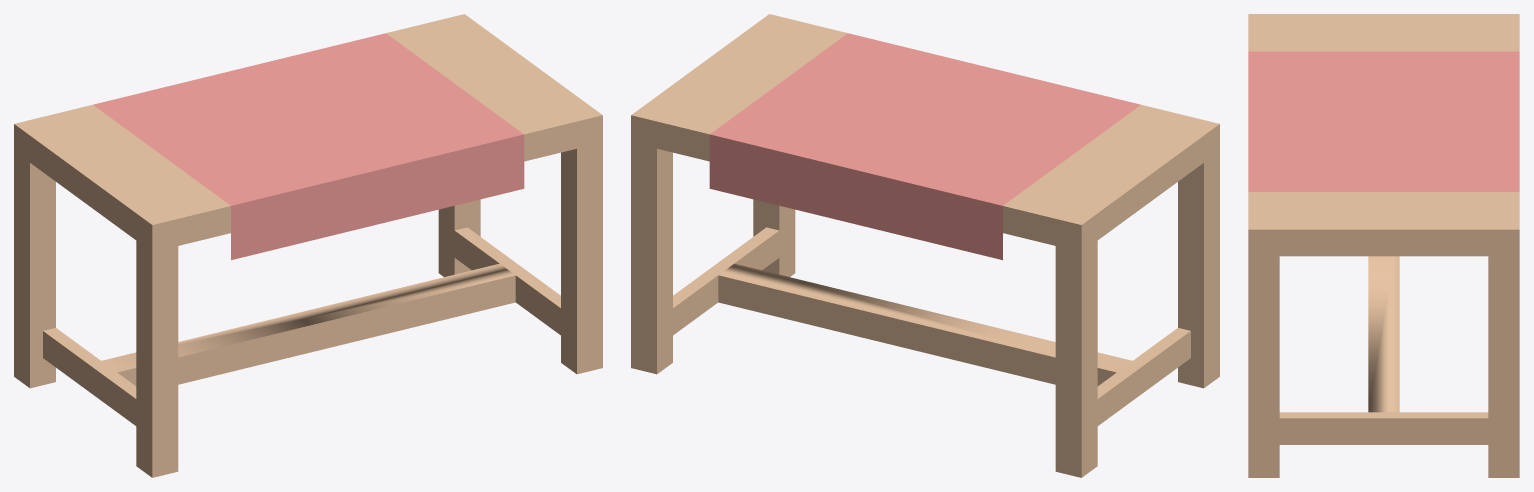
Rendered from Table-cloth.fbx.
The picture shows the model from 3 angles, left to right: view 1: azimuth 30°, elevation 25°; view 2: azimuth 150°, elevation 25°; view 3: azimuth 270°, elevation 25°; orthographic projection.
Visible parts, largest first — view 1: tableCloth; view 2: tableCloth; view 3: tableCloth.
Boxes of the visible parts, x1,y1,x2,y2 form: tableCloth: [14, 14, 602, 477]; tableCloth: [631, 14, 1219, 477]; tableCloth: [1248, 14, 1519, 477].
Size of the model in its own units: 185 by 98.98 by 98.11.
